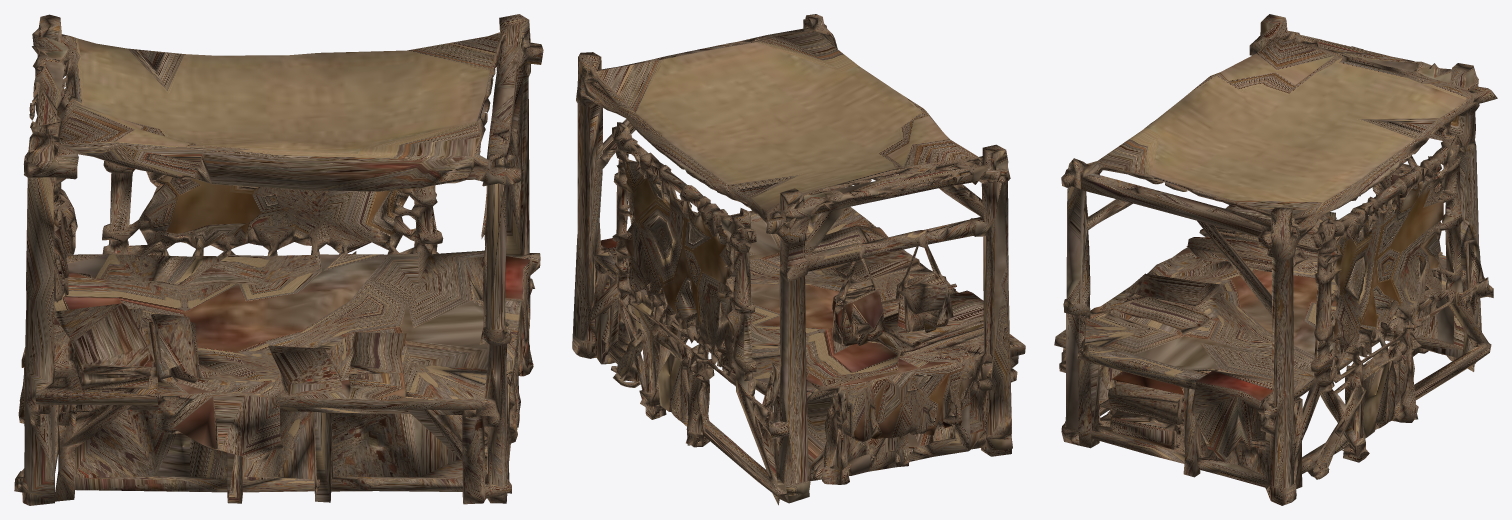
File: tanner-market-stall-pixal3d.glb
The picture shows the model from 3 angles, left to right: view 1: azimuth 30°, elevation 25°; view 2: azimuth 150°, elevation 25°; view 3: azimuth 270°, elevation 25°; orthographic projection. The views are drawn at different scales.
Visible parts, largest first — view 1: geometry_0; view 2: geometry_0; view 3: geometry_0.
Boxes of the visible parts, box(x1,y1,x2,y2) form: geometry_0: box(14, 14, 543, 505); geometry_0: box(572, 14, 1025, 505); geometry_0: box(1054, 14, 1497, 505).
Size of the model in its own units: 4.13 by 2.79 by 3.71.
Materials: 1 (1 with a texture image).
